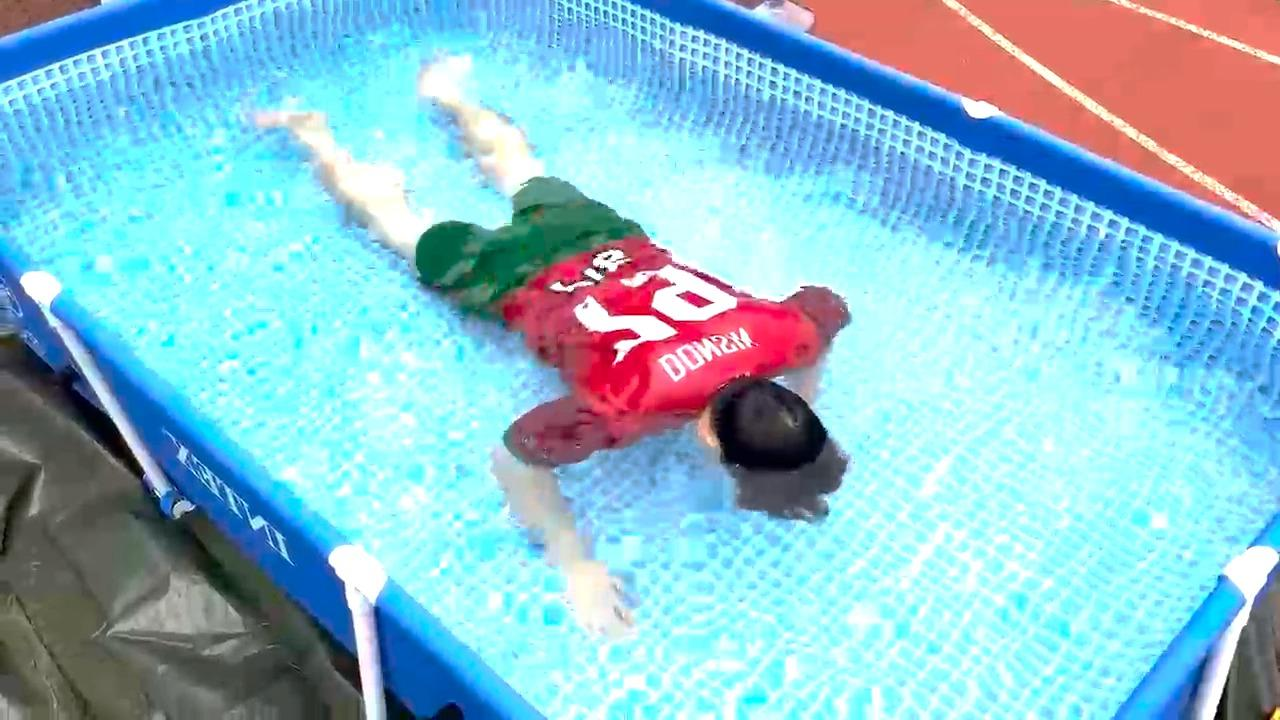Drowning: (245, 42, 887, 612)
